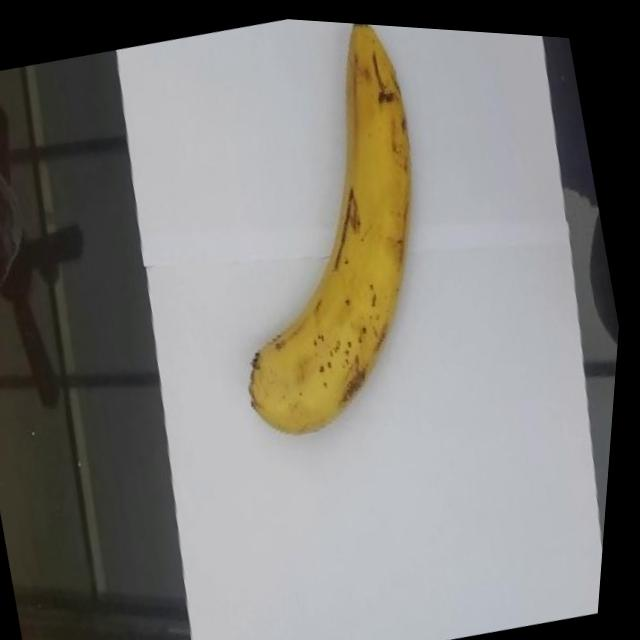Banana: (162, 10, 492, 457)
